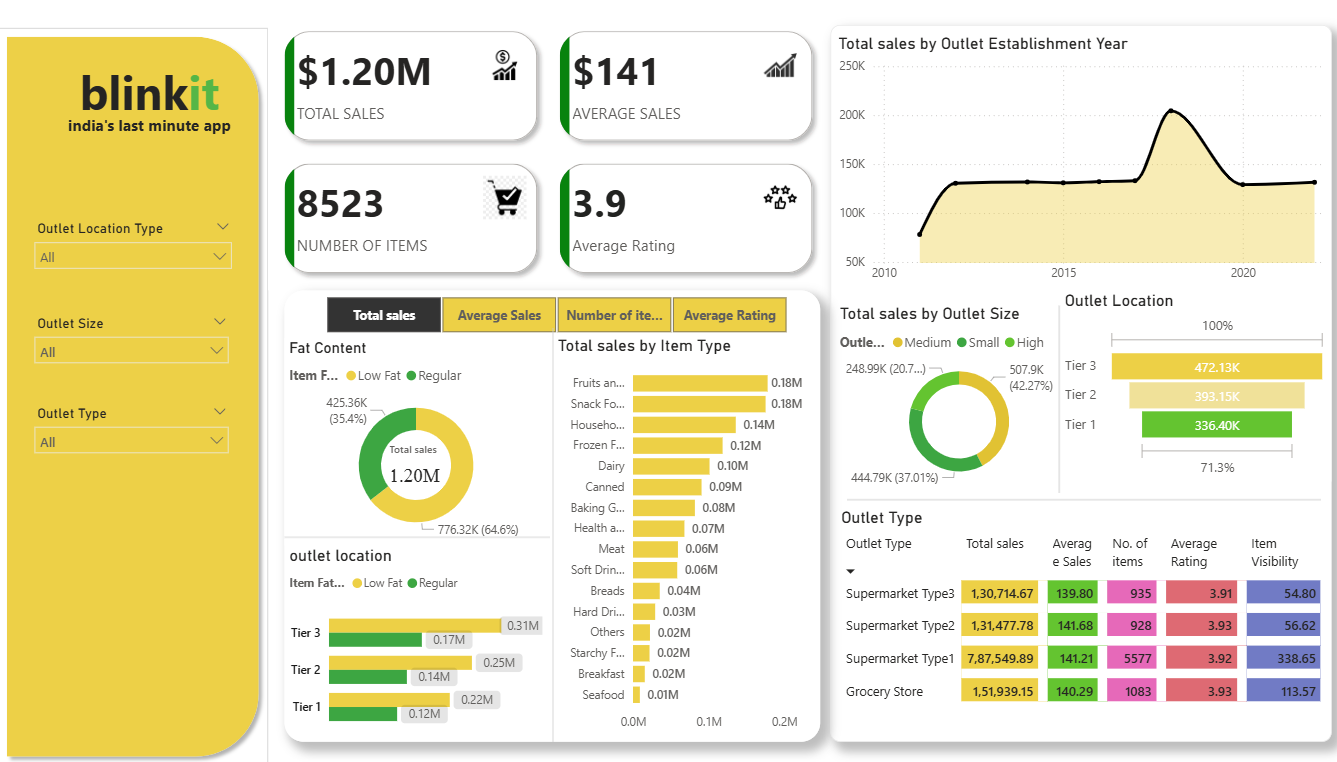

Layout of this report page (visuals, bound fields, positions):
{"tool":"powerbi","page":{"name":"Page 1","canvas":[1400,800],"ordinal":0},"visuals":[{"type":"shape","box":[0,31.2,281.2,768.8],"z":0},{"type":"textbox","box":[54.7,59.4,206.2,78.1],"z":1000},{"type":"textbox","box":[17.2,115.6,281.2,45.3],"z":2000},{"type":"cardVisual","fields":{"Data":["BlinkIT Grocery Data.Total sales","BlinkIT Grocery Data.Average Sales","BlinkIT Grocery Data.Number of items","BlinkIT Grocery Data.Average Rating"]},"box":[281.2,17.2,585.9,287.5],"z":3000},{"type":"textbox","box":[298.4,304.7,557.8,470.3],"z":4000},{"type":"slicer","fields":{"Values":["metrics.metrics"]},"box":[317.2,304.7,528.1,50],"z":5000},{"type":"donutChart","title":"Fat Content","fields":{"Y":["BlinkIT Grocery Data.Total sales"],"Category":["BlinkIT Grocery Data.Item Fat Content"]},"box":[298.4,354.7,273.4,215.6],"z":6000},{"type":"clusteredBarChart","title":"outlet location","fields":{"Y":["BlinkIT Grocery Data.Total sales"],"Category":["BlinkIT Grocery Data.Outlet Location Type"],"Series":["BlinkIT Grocery Data.Item Fat Content"]},"box":[298.4,570.3,273.4,204.7],"z":7000},{"type":"shape","box":[298.4,553.1,276.6,17.2],"z":8000},{"type":"shape","box":[575,343.8,6.2,431.2],"z":9000},{"type":"slicer","fields":{"Values":["BlinkIT Grocery Data.Outlet Location Type"]},"box":[28.1,226.6,225,78.1],"z":10000},{"type":"cardVisual","fields":{"Data":["BlinkIT Grocery Data.Total sales"]},"box":[390.6,445.3,95.3,79.7],"z":11000},{"type":"lineChart","fields":{"Category":["BlinkIT Grocery Data.Outlet Establishment Year"],"Y":["BlinkIT Grocery Data.Total sales"]},"box":[870.3,37.5,518.8,267.2],"z":12000},{"type":"textbox","box":[867.2,28.1,521.9,746.9],"z":13000},{"type":"donutChart","fields":{"Category":["BlinkIT Grocery Data.Outlet Size"],"Y":["BlinkIT Grocery Data.Total sales"]},"box":[871.9,318.8,257.8,195.3],"z":14000},{"type":"funnel","title":" Outlet Location ","fields":{"Category":["BlinkIT Grocery Data.Outlet Location Type"],"Y":["Sum(BlinkIT Grocery Data.Sales)"]},"box":[1106.2,304.7,282.8,198.4],"z":15000},{"type":"shape","box":[1090.6,320.3,29.7,195.3],"z":16000},{"type":"pivotTable","title":"Outlet Type","fields":{"Rows":["BlinkIT Grocery Data.Outlet Type"],"Values":["BlinkIT Grocery Data.Total sales","BlinkIT Grocery Data.Average Sales","BlinkIT Grocery Data.Number of items","BlinkIT Grocery Data.Average Rating","Sum(BlinkIT Grocery Data.Item Visibility)"]},"box":[873.4,531.2,517.2,223.4],"z":17000},{"type":"shape","box":[884.4,514.1,493.8,17.2],"z":18000},{"type":"clusteredBarChart","fields":{"Category":["BlinkIT Grocery Data.Item Type"],"Y":["BlinkIT Grocery Data.Total sales"]},"box":[578.1,351.6,278.1,420.3],"z":18001},{"type":"slicer","fields":{"Values":["BlinkIT Grocery Data.Outlet Size"]},"box":[28.1,325,221.9,76.6],"z":18002},{"type":"slicer","fields":{"Values":["BlinkIT Grocery Data.Outlet Type"]},"box":[28.1,418.8,221.9,60.9],"z":18003}]}

Visuals, with their boxes in screenshot pixels (x1, y1, x2, y2), scaled from the page's 1400x800 canvas onto the 1337x762 screenshot:
shape: box(0, 30, 269, 761)
textbox: box(52, 57, 249, 131)
textbox: box(16, 110, 285, 153)
cardVisual - BlinkIT Grocery Data.Total sales x BlinkIT Grocery Data.Average Sales: box(269, 16, 828, 290)
textbox: box(285, 290, 818, 738)
slicer - metrics.metrics: box(303, 290, 807, 338)
"Fat Content" donutChart: box(285, 338, 546, 543)
"outlet location" clusteredBarChart: box(285, 543, 546, 738)
shape: box(285, 527, 549, 543)
shape: box(549, 327, 555, 738)
slicer - BlinkIT Grocery Data.Outlet Location Type: box(27, 216, 242, 290)
cardVisual - BlinkIT Grocery Data.Total sales: box(373, 424, 464, 500)
lineChart - BlinkIT Grocery Data.Outlet Establishment Year x BlinkIT Grocery Data.Total sales: box(831, 36, 1327, 290)
textbox: box(828, 27, 1327, 738)
donutChart - BlinkIT Grocery Data.Outlet Size x BlinkIT Grocery Data.Total sales: box(833, 304, 1079, 490)
" Outlet Location " funnel: box(1056, 290, 1326, 479)
shape: box(1042, 305, 1070, 491)
"Outlet Type" pivotTable: box(834, 506, 1328, 719)
shape: box(845, 490, 1316, 506)
clusteredBarChart - BlinkIT Grocery Data.Item Type x BlinkIT Grocery Data.Total sales: box(552, 335, 818, 735)
slicer - BlinkIT Grocery Data.Outlet Size: box(27, 310, 239, 383)
slicer - BlinkIT Grocery Data.Outlet Type: box(27, 399, 239, 457)
